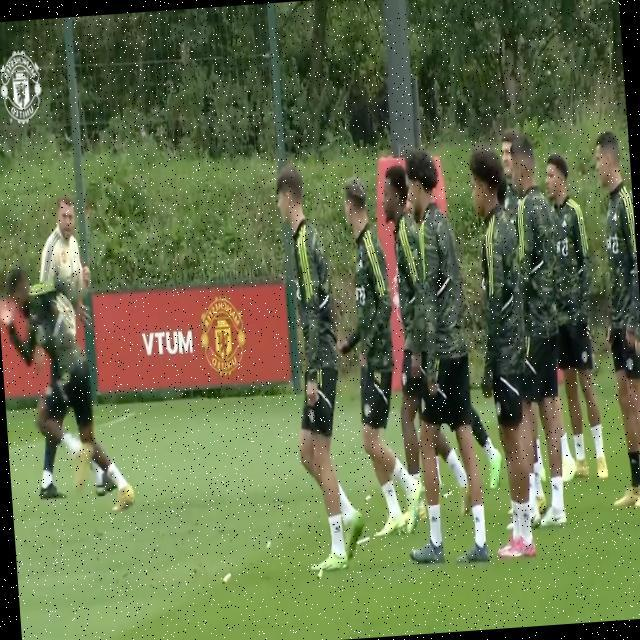Adidas: (332, 521, 341, 535), (520, 509, 529, 521), (430, 512, 438, 524)
